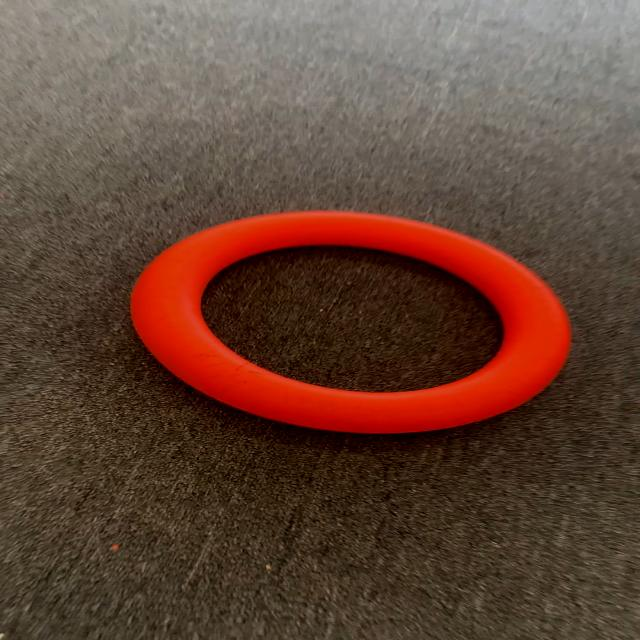notes: (133, 209, 569, 434)
